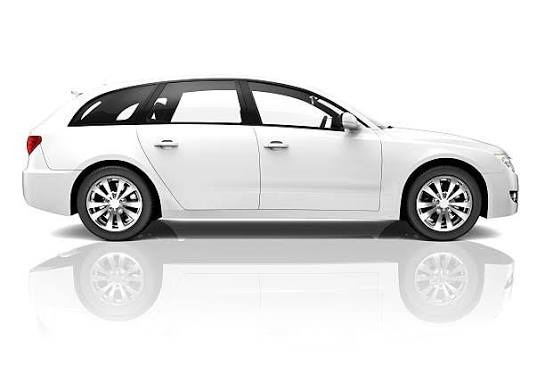car: (1, 87, 529, 331), (33, 78, 516, 240), (37, 88, 287, 227)
